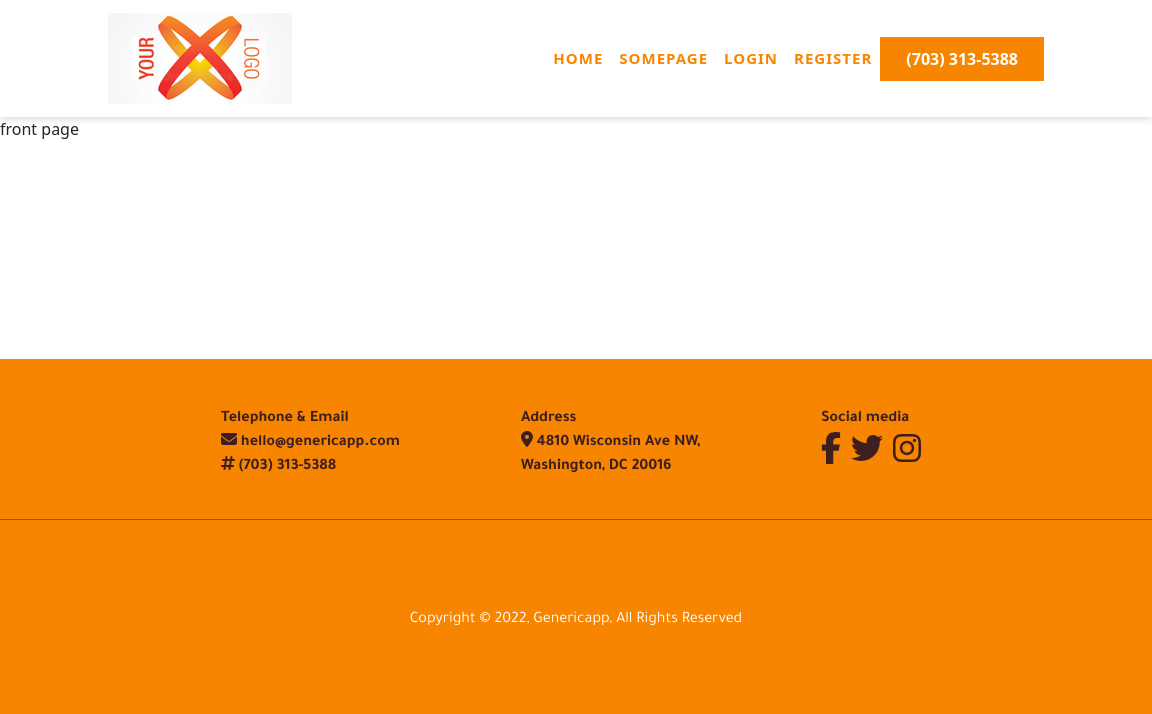
Scenario: genericapp app › as an unregistered guest › user interacts with the navbar › takes them to the login page upon clicking "login"
The image size is (1152, 714).
Check: the element with id "main-routes-content" is shown, box [0, 118, 79, 140]
Click the link "Login" at (751,58), box [724, 48, 778, 68]
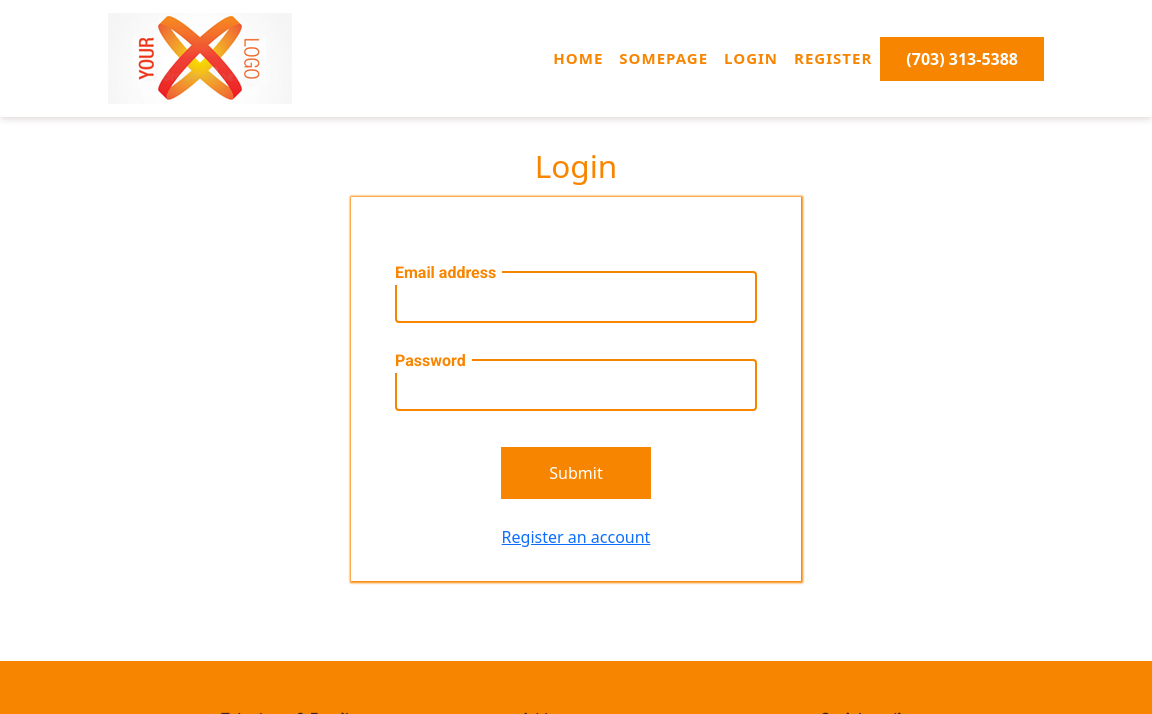
Check: the link "Register an account" is shown, box [502, 525, 650, 549]
